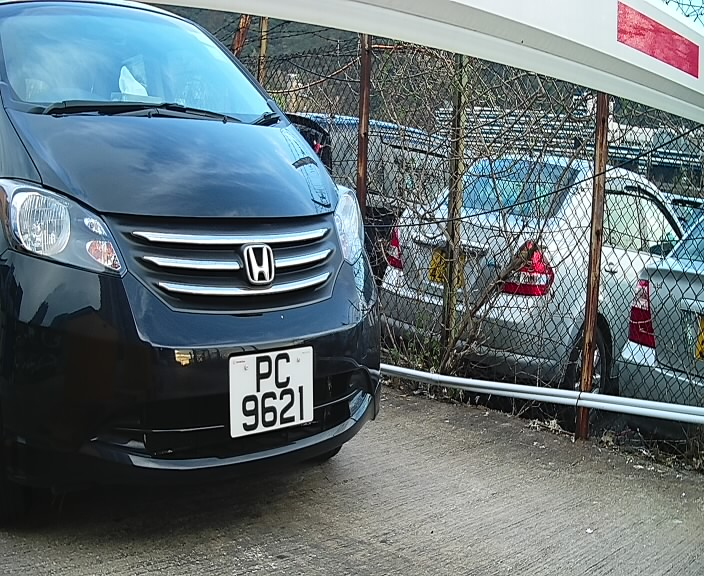License Plate: (217, 338, 323, 448)
